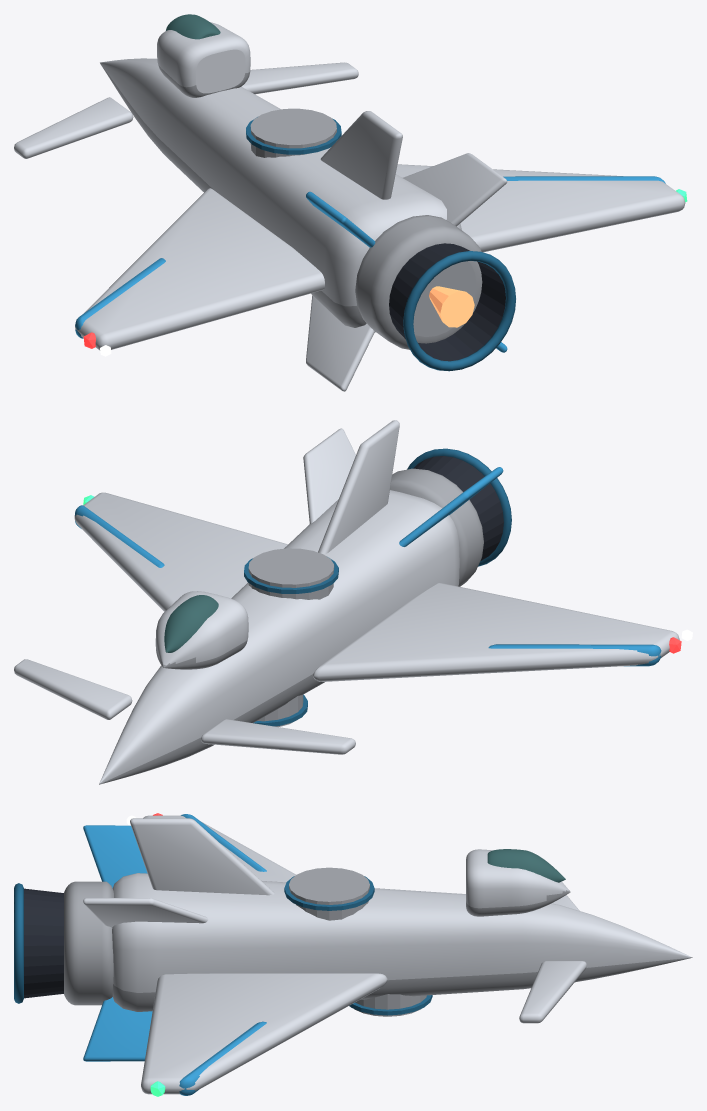
Rendered from gnat.glb.
The picture shows the model from 3 angles, top to bottom: view 1: azimuth 30°, elevation 25°; view 2: azimuth 150°, elevation 25°; view 3: azimuth 270°, elevation 25°; orthographic projection. The views are drawn at different scales.
Visible parts, largest first — view 1: gnat_mesh; view 2: gnat_mesh; view 3: gnat_mesh.
Part boxes in pixels (x1,y1,x2,y2): gnat_mesh: (14, 14, 687, 391); gnat_mesh: (14, 420, 681, 784); gnat_mesh: (14, 813, 692, 1096).
Bounding box in the file's own units: 6.15 × 2.15 × 6.42.
